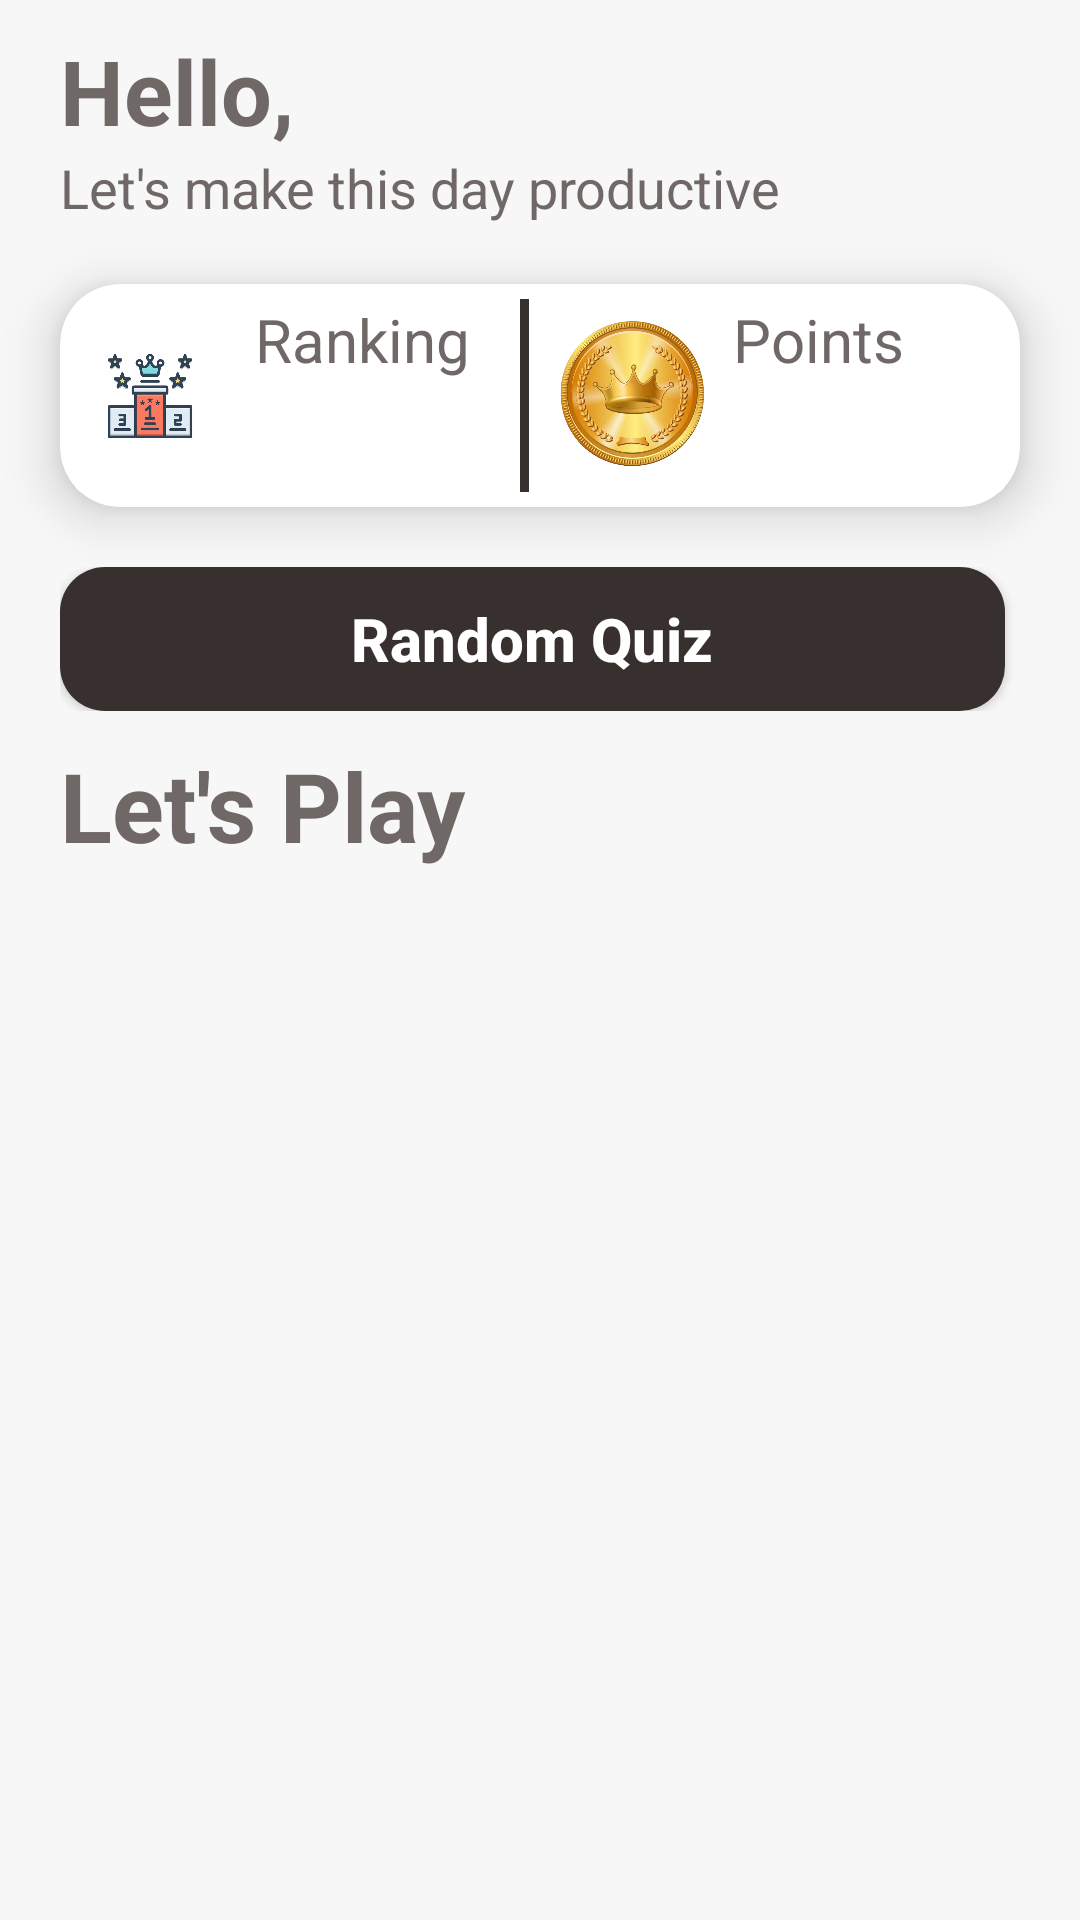

Named icons in this screenshot (1080 × 1920) and their bounding boxes, (x1, y1, x2, y2):
coin: (561, 321, 704, 466)
